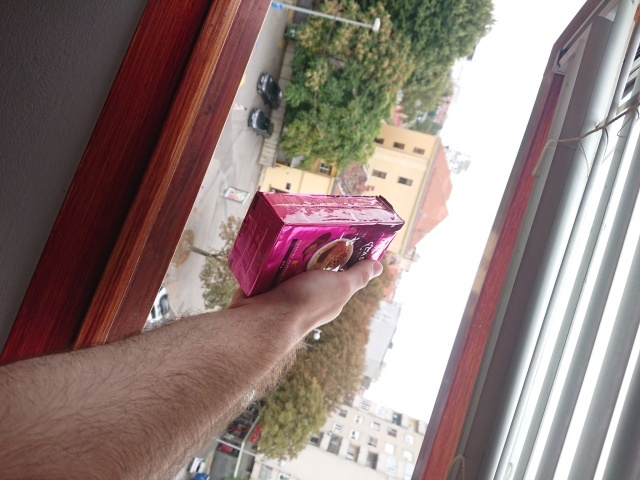Barcaffe Classic Original 225g: (225, 187, 408, 300)
